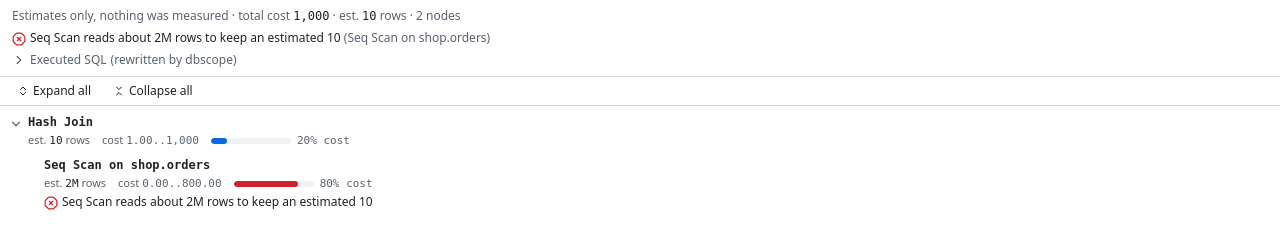
Plan tab › summarizes top flags, shows estimates and cost shares as text, and collapses nodes
Expected: the text "Estimates only" is shown, x1=12 y1=7 x2=229 y2=24
Expected: the list named "Top plan findings" reads "Seq Scan reads about 2M rows to keep an estimated 10 (Seq Scan on shop.orders)", x1=11 y1=28 x2=490 y2=46
Click the button named "Collapse Hash Join" at x=16, y=124, box x1=8 y1=116 x2=24 y2=132
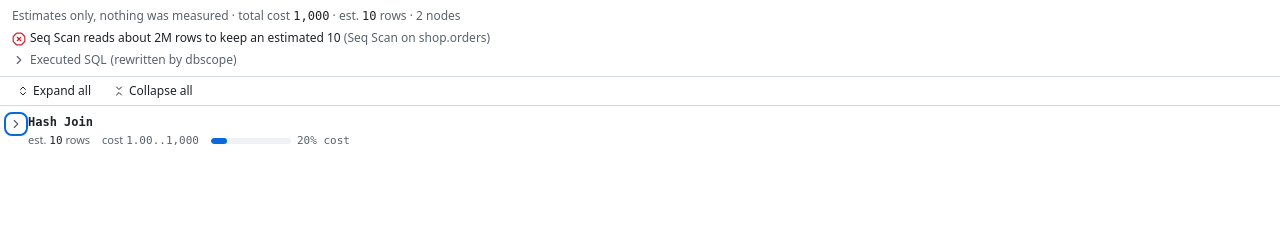
Result: the number of list items with test id "plan-node" is 1 at x1=8 y1=115 x2=409 y2=147
